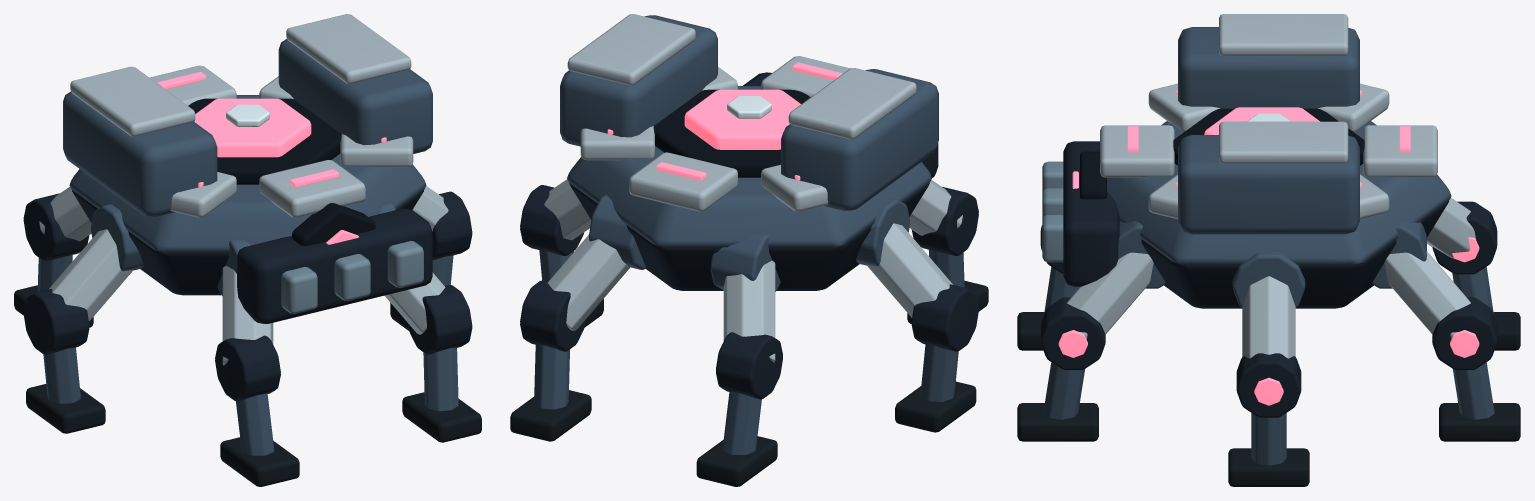
File: t3_brute.fbx
3 views of the same model, side by side, from view 1: azimuth 30°, elevation 25°; view 2: azimuth 150°, elevation 25°; view 3: azimuth 270°, elevation 25° (orthographic). The views are drawn at different scales.
Visible parts, largest first — view 1: Body_Geometry, Knee.005_Geometry, Leg_04_Geometry, Knee.004_Geometry, Knee_Geometry, Knee.003_Geometry, Knee.001_Geometry, Leg_05_Geometry, Foot_Geometry, Foot.005_Geometry, Foot.004_Geometry, Leg_00_Geometry (+2 smaller); view 2: Body_Geometry, Leg_02_Geometry, Knee.003_Geometry, Leg_04_Geometry, Leg_03_Geometry, Knee.004_Geometry, Knee.002_Geometry, Knee.005_Geometry, Knee.001_Geometry, Foot.002_Geometry, Foot.003_Geometry, Foot.004_Geometry (+2 smaller); view 3: Body_Geometry, Leg_01_Geometry, Knee.001_Geometry, Knee_Geometry, Knee.002_Geometry, Leg_02_Geometry, Leg_00_Geometry, Knee.003_Geometry, Foot_Geometry, Foot.002_Geometry, Foot.001_Geometry, Leg_03_Geometry (+3 smaller).
Part boxes in pixels (box(x1,y1,x2,y2)): Body_Geometry: box(63, 14, 432, 323); Knee.005_Geometry: box(215, 335, 280, 455); Leg_04_Geometry: box(49, 204, 143, 321); Knee.004_Geometry: box(23, 289, 89, 403); Knee_Geometry: box(408, 285, 472, 411); Knee.003_Geometry: box(23, 193, 89, 291); Knee.001_Geometry: box(432, 191, 472, 285); Leg_05_Geometry: box(217, 239, 273, 365); Foot_Geometry: box(402, 392, 481, 442); Foot.005_Geometry: box(220, 437, 299, 486); Foot.004_Geometry: box(26, 384, 105, 433); Leg_00_Geometry: box(380, 201, 445, 334); Body_Geometry: box(560, 14, 938, 290); Leg_02_Geometry: box(547, 195, 645, 330); Knee.003_Geometry: box(716, 332, 782, 454); Leg_04_Geometry: box(856, 198, 952, 317); Leg_03_Geometry: box(710, 234, 780, 362); Knee.004_Geometry: box(911, 284, 978, 401); Knee.002_Geometry: box(520, 280, 585, 409); Knee.005_Geometry: box(911, 186, 978, 287); Knee.001_Geometry: box(520, 185, 584, 281); Foot.002_Geometry: box(510, 390, 591, 441); Foot.003_Geometry: box(696, 436, 777, 486); Foot.004_Geometry: box(895, 381, 976, 432); Body_Geometry: box(1042, 14, 1451, 308); Leg_01_Geometry: box(1232, 251, 1305, 358); Knee.001_Geometry: box(1236, 353, 1301, 465); Knee_Geometry: box(1040, 297, 1105, 419); Knee.002_Geometry: box(1432, 297, 1497, 419); Leg_02_Geometry: box(1372, 221, 1470, 339); Leg_00_Geometry: box(1067, 221, 1165, 339); Knee.003_Geometry: box(1432, 201, 1497, 314); Foot_Geometry: box(1017, 403, 1098, 441); Foot.002_Geometry: box(1439, 403, 1520, 441); Foot.001_Geometry: box(1228, 448, 1309, 486); Leg_03_Geometry: box(1427, 198, 1475, 259).
Bounding box in the file's own units: 2.4 × 1.61 × 2.41.
